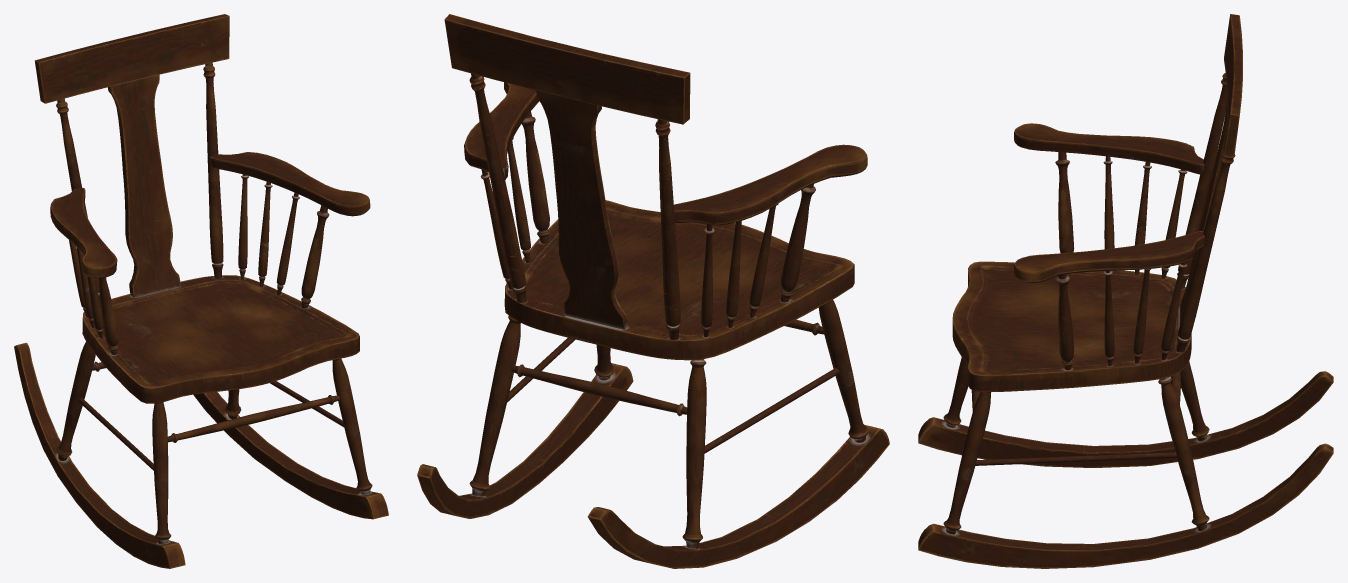
File: ph-Rockingchair_01.glb
3 views of the same model, side by side, from view 1: azimuth 30°, elevation 25°; view 2: azimuth 150°, elevation 25°; view 3: azimuth 270°, elevation 25° (orthographic). The views are drawn at different scales.
Visible parts, largest first — view 1: Rockingchair_01; view 2: Rockingchair_01; view 3: Rockingchair_01.
Boxes of the visible parts, x1,y1,x2,y2 form: Rockingchair_01: [14, 14, 388, 568]; Rockingchair_01: [417, 14, 889, 568]; Rockingchair_01: [918, 14, 1333, 568].
Bounding box in the file's own units: 0.7118 × 1 × 0.8378.
Materials: 1 (1 with a texture image).
